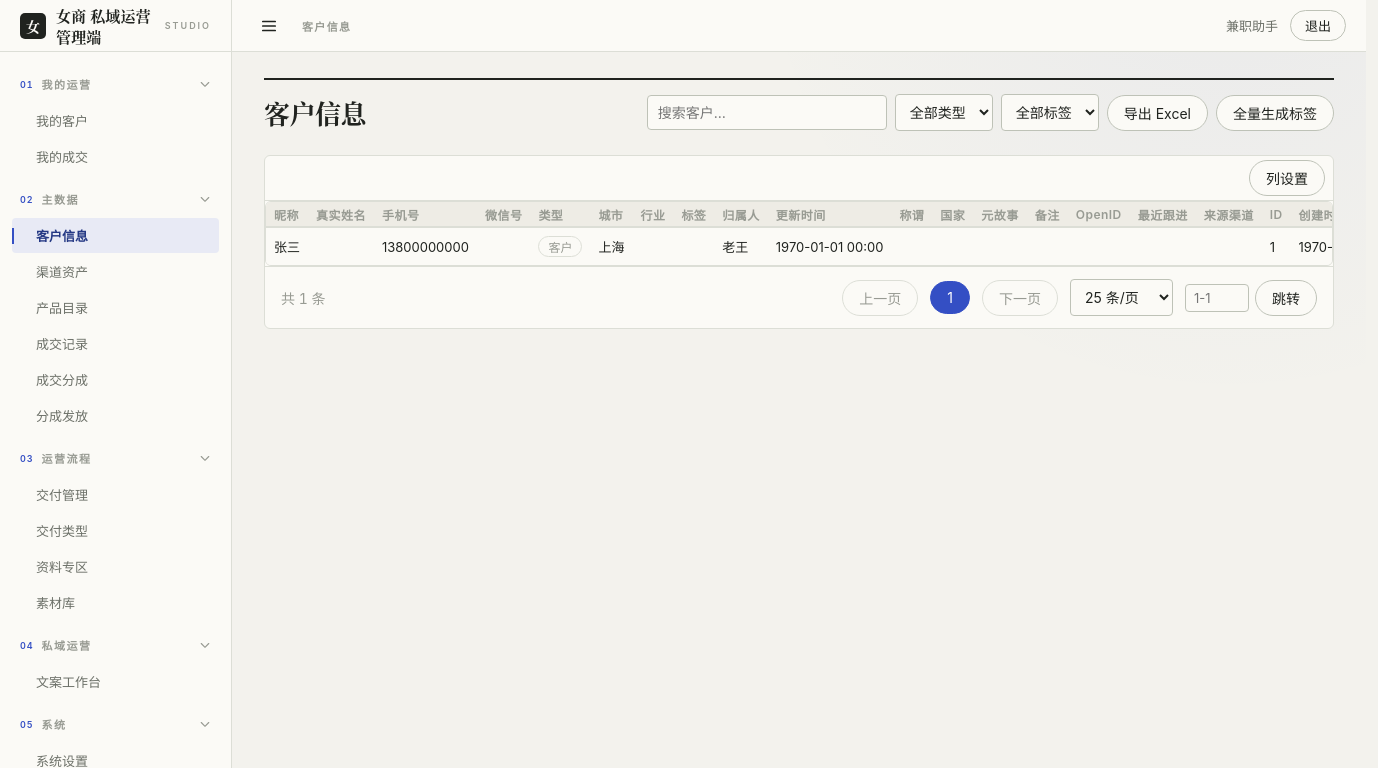
Test: 客户信息页 › assistant：无新增/删除按钮，归属人列只读（K31）
Expected: the text "张三" is shown, top-left (266, 228), bottom-right (308, 265)
# 归属人双击无编辑器
Double-click the cell "老王" at (741, 246), box top-left (714, 228), bottom-right (768, 265)
# 普通字段仍可编（assistant 有 customers.update）
Double-click the text "张三" at (287, 246), box top-left (266, 228), bottom-right (308, 265)
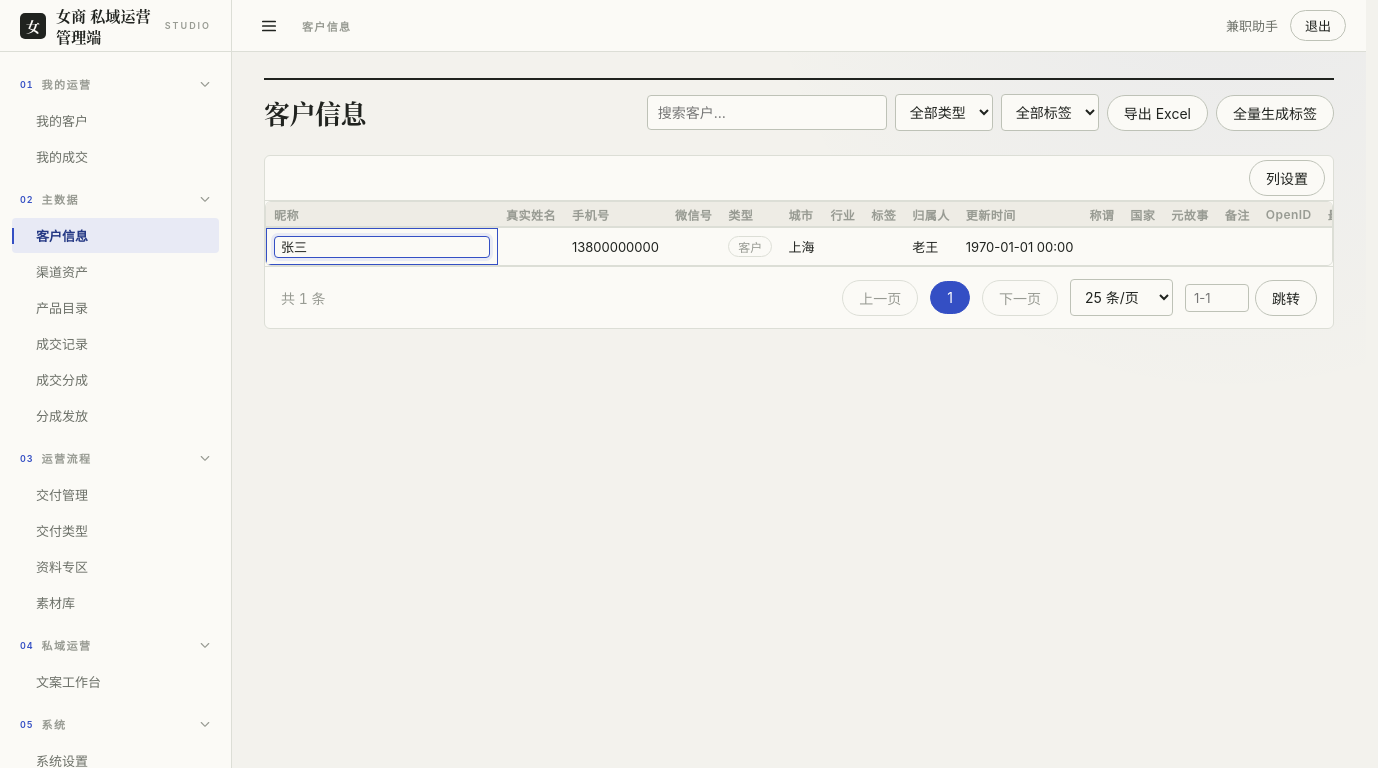
Expected: the field named "昵称" is shown, top-left (274, 236), bottom-right (490, 258)
